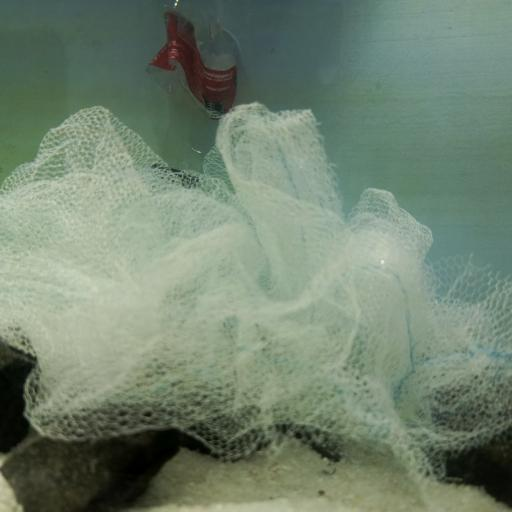net: (0, 100, 512, 487)
plastic_bottle: (144, 0, 242, 197)
